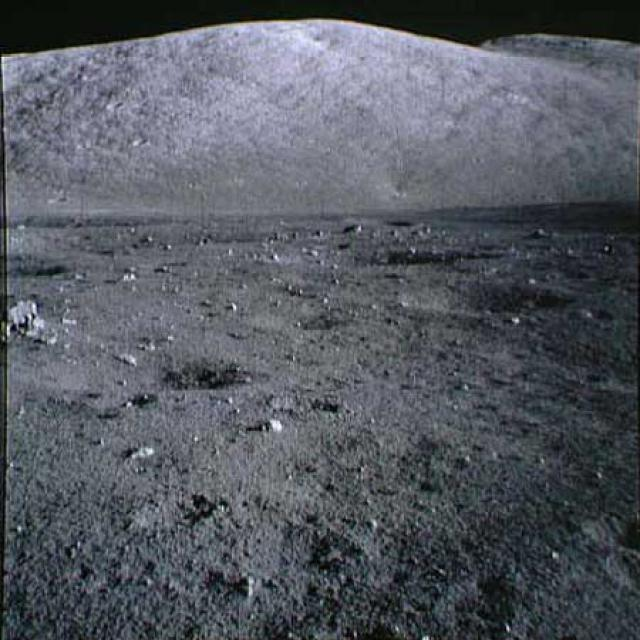crater: (0, 357, 258, 398), (258, 244, 512, 266), (396, 282, 563, 314), (83, 230, 328, 246), (12, 260, 68, 278), (383, 218, 417, 230)
